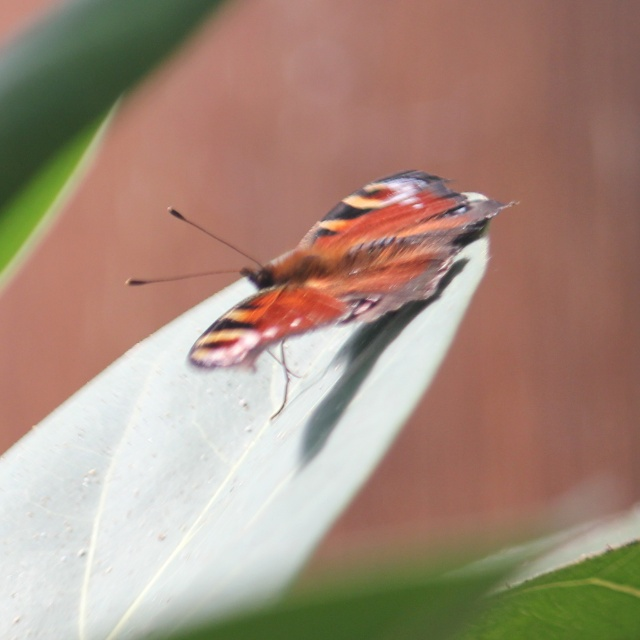Butterfly: (94, 166, 498, 408)
